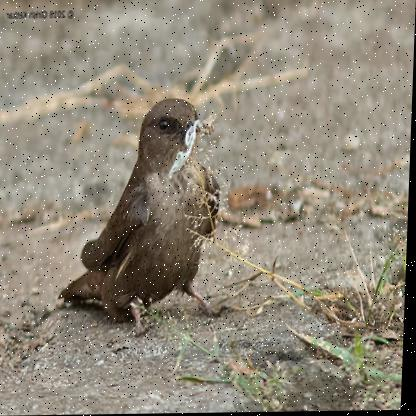Burung: (59, 97, 224, 337)
